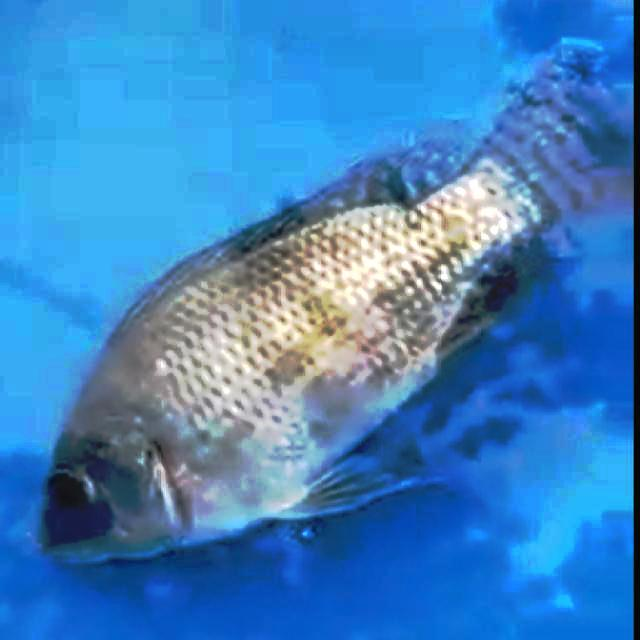Columnaris Disease: (37, 44, 632, 555)
